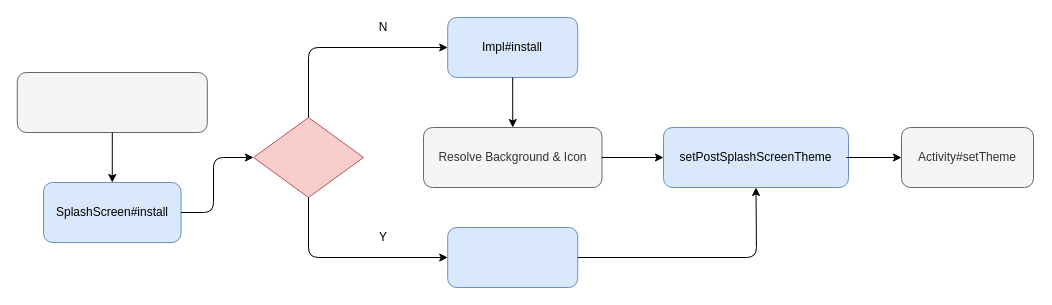
The diagram is 1052 pixels wide and 305 high, and some of its shapes have lost their labels. The centre of each missing label's shape, as x and y in pixels:
"Activity# installSplashScreen" belongs at [111,102].
"Android 12?" belongs at [308,157].
"Impl31#install" belongs at [512,257].
